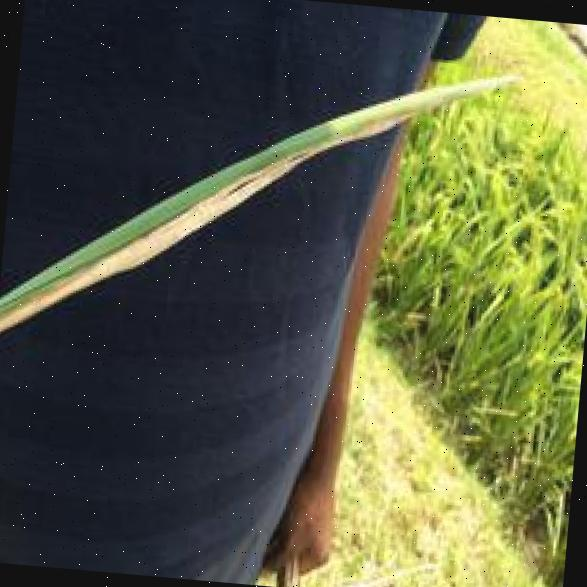Bacteria_Leaf_Blight: (10, 120, 322, 339)
